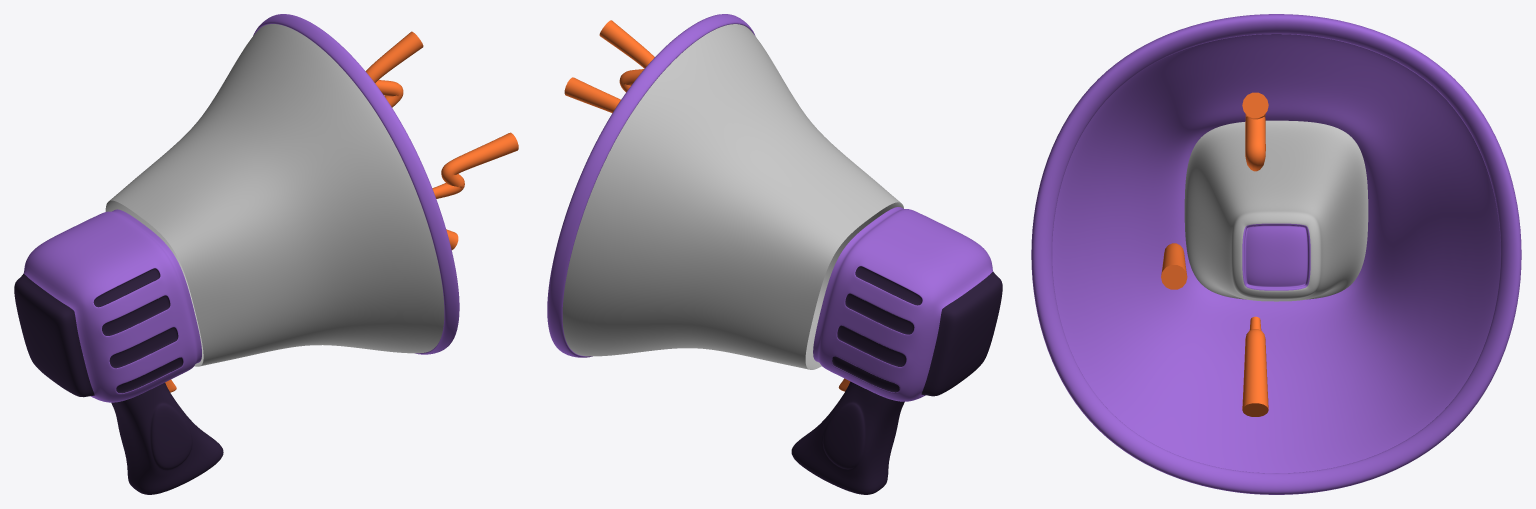
The model's file is megaphone-3d-animated-icon-275349568457.glb.
The picture shows the model from 3 angles, left to right: view 1: azimuth 30°, elevation 25°; view 2: azimuth 150°, elevation 25°; view 3: azimuth 270°, elevation 25°; orthographic projection. The views are drawn at different scales.
Parts seen in each view (by area): view 1: Cube, Cube.005, Cube.001, Cube.004, NurbsPath.001, NurbsPath; view 2: Cube, Cube.005, Cube.001, Cube.004, NurbsPath, NurbsPath.001; view 3: Cube, Cube.004, Cube.006, NurbsPath.002, NurbsPath, NurbsPath.001.
Boxes of the visible parts, x1,y1,x2,y2 form: Cube: (105,24,444,366); Cube.005: (14,209,201,402); Cube.001: (111,382,223,494); Cube.004: (253,14,459,354); NurbsPath.001: (432,132,518,198); NurbsPath: (365,31,423,107); Cube: (562,24,903,369); Cube.005: (813,207,1002,401); Cube.001: (791,381,904,494); Cube.004: (547,14,755,357); NurbsPath: (599,20,654,92); NurbsPath.001: (564,77,620,113); Cube: (1052,34,1500,473); Cube.004: (1031,14,1521,494); Cube.006: (1184,120,1368,301); NurbsPath.002: (1242,316,1268,416); NurbsPath: (1242,92,1268,171); NurbsPath.001: (1161,243,1187,289).
Bounding box in the file's own units: 1.84 × 1.63 × 1.31.
